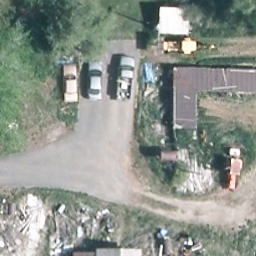car: (55, 61, 80, 104), (86, 62, 106, 100)
pickup: (112, 56, 138, 103)
tractor: (217, 148, 252, 195)
